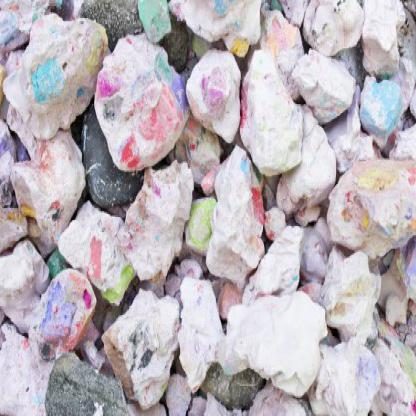Sedimentary_Chalk: (116, 53, 176, 160), (248, 297, 316, 387), (111, 300, 177, 381), (17, 34, 78, 115), (19, 154, 75, 232), (218, 190, 271, 271), (305, 51, 356, 134), (139, 184, 190, 265), (360, 173, 415, 246), (179, 296, 217, 378), (332, 260, 375, 332), (258, 87, 294, 164), (207, 60, 245, 127), (11, 345, 49, 409), (86, 214, 119, 280), (370, 4, 404, 65), (6, 264, 41, 321), (50, 288, 81, 350)
